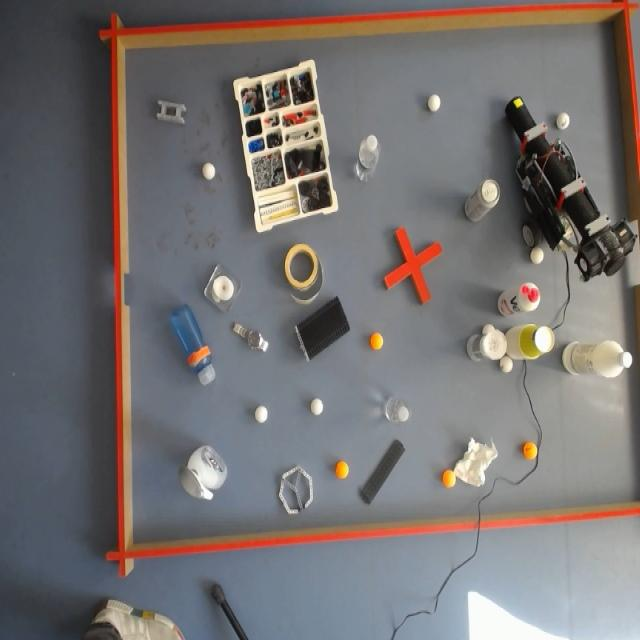orange: (334, 459, 350, 481), (368, 332, 384, 352), (522, 441, 538, 460), (442, 468, 456, 488)
robot: (507, 96, 636, 281)
robot-front: (511, 95, 526, 111)
white: (253, 403, 270, 426), (309, 396, 325, 419), (530, 246, 544, 266), (557, 112, 572, 129), (428, 93, 442, 111), (500, 355, 512, 374), (203, 163, 216, 179), (483, 324, 496, 336)
